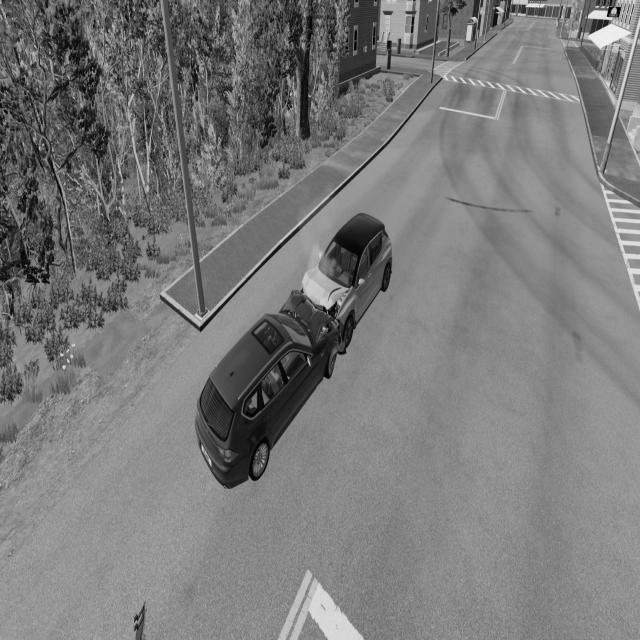accident: (193, 212, 397, 496)
